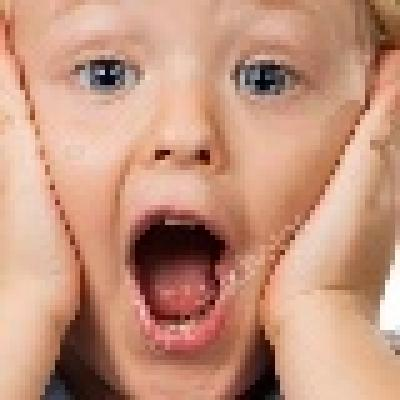surprise: (18, 0, 354, 394)
